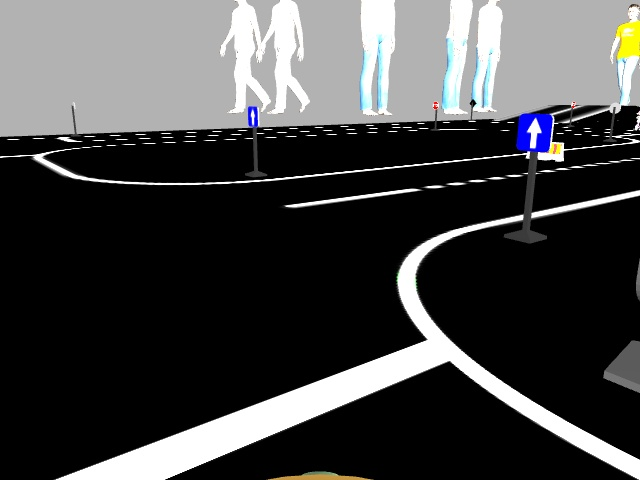OneWay: (520, 115, 550, 149), (248, 108, 258, 126)
